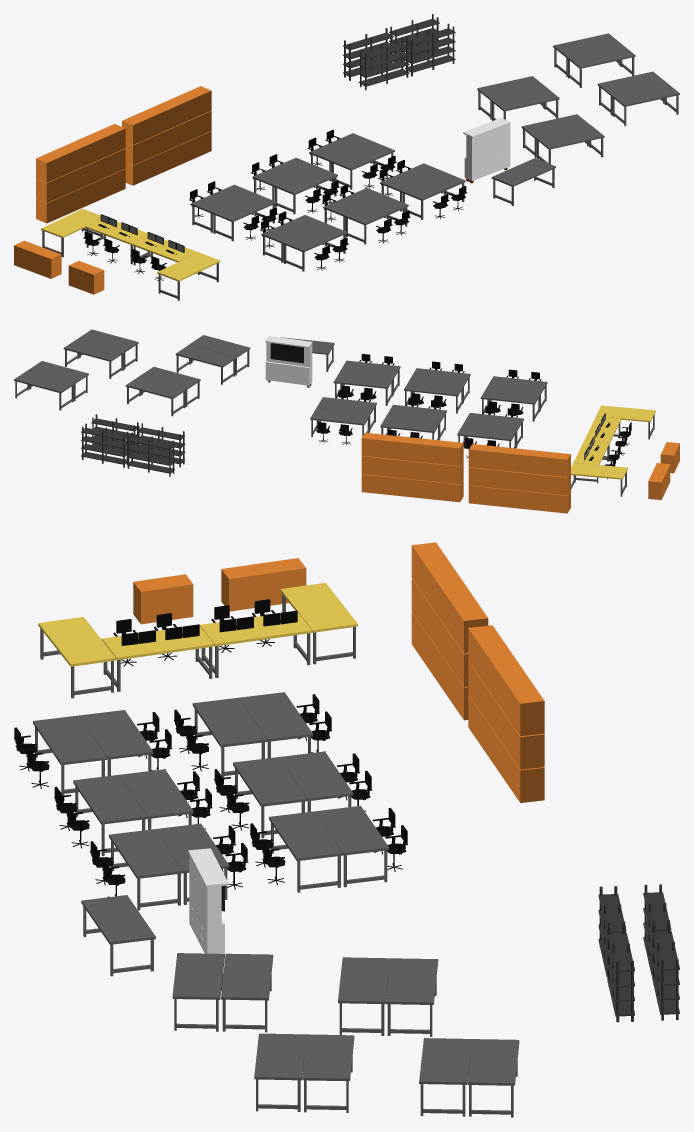
Rendered from Basement_Left.fbx.
3 renders of one model, top to bottom at view 1: azimuth 30°, elevation 25°; view 2: azimuth 150°, elevation 25°; view 3: azimuth 270°, elevation 25°, orthographic. The views are drawn at different scales.
Visible parts, largest first — view 1: BasementFurniture; view 2: BasementFurniture; view 3: BasementFurniture.
Part boxes in pixels (x1,y1,x2,y2): BasementFurniture: [14, 14, 679, 300]; BasementFurniture: [14, 329, 679, 513]; BasementFurniture: [14, 542, 679, 1117].
Size of the model in its own units: 2770 by 244 by 1472.
